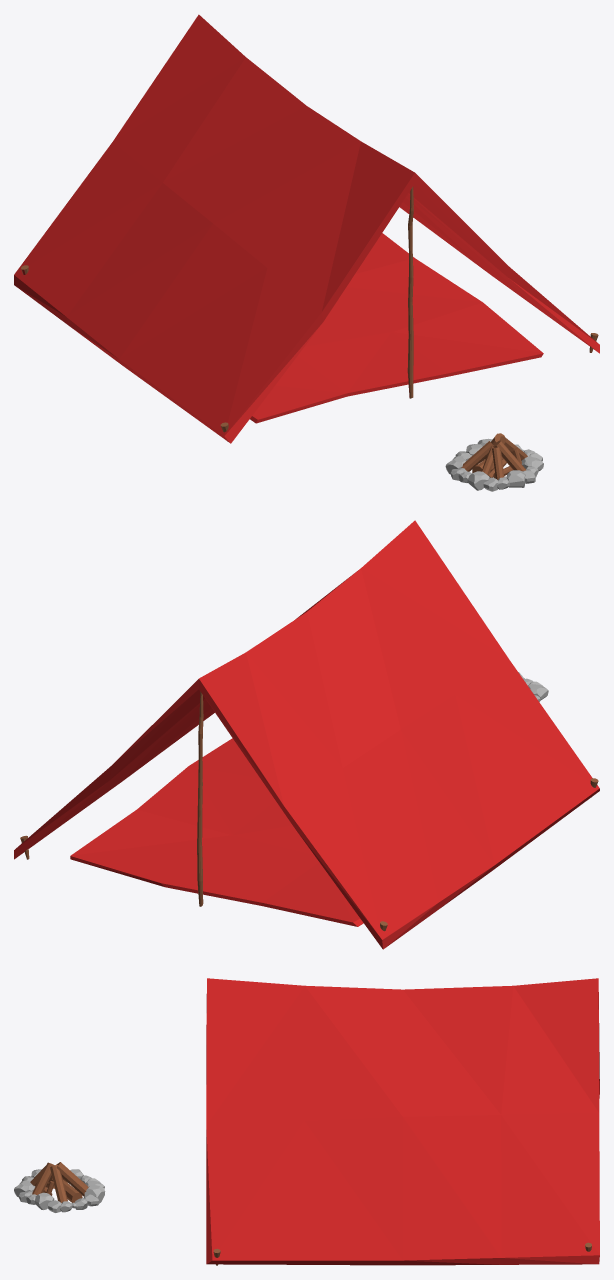
The model's file is campfire_tent.dae.
3 renders of one model, top to bottom at view 1: azimuth 30°, elevation 25°; view 2: azimuth 150°, elevation 25°; view 3: azimuth 270°, elevation 25°, orthographic. The views are drawn at different scales.
Visible parts, largest first — view 1: Tent_01_mesh, Campfire_01_mesh; view 2: Tent_01_mesh; view 3: Tent_01_mesh, Campfire_01_mesh.
Boxes of the visible parts, x1,y1,x2,y2 form: Tent_01_mesh: [14, 14, 599, 443]; Campfire_01_mesh: [445, 433, 543, 491]; Tent_01_mesh: [14, 520, 599, 949]; Tent_01_mesh: [206, 978, 599, 1265]; Campfire_01_mesh: [14, 1162, 105, 1212].
Bounding box in the file's own units: 3.76 × 5.6 × 2.28.
2 materials, 2 textured.
